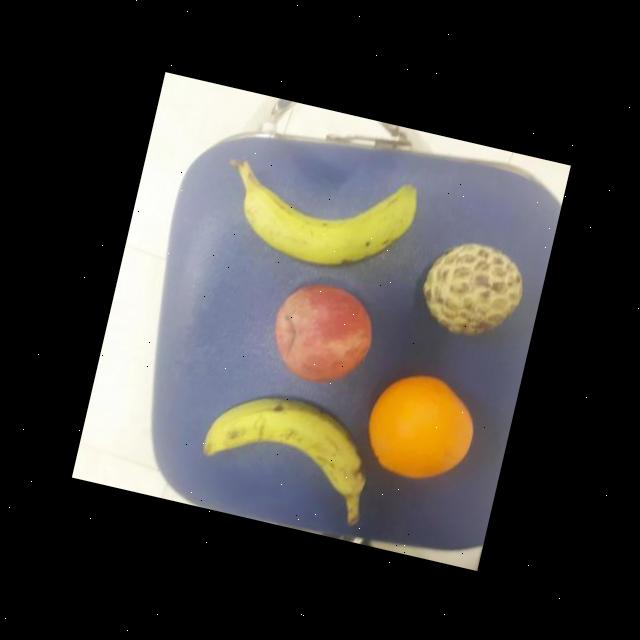Sakya fruit: (408, 229, 532, 346)
apple: (257, 270, 383, 392)
banana: (213, 138, 423, 284), (195, 377, 381, 502)
orange: (354, 361, 484, 490)
